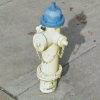Hydrant: (25, 2, 76, 95)
